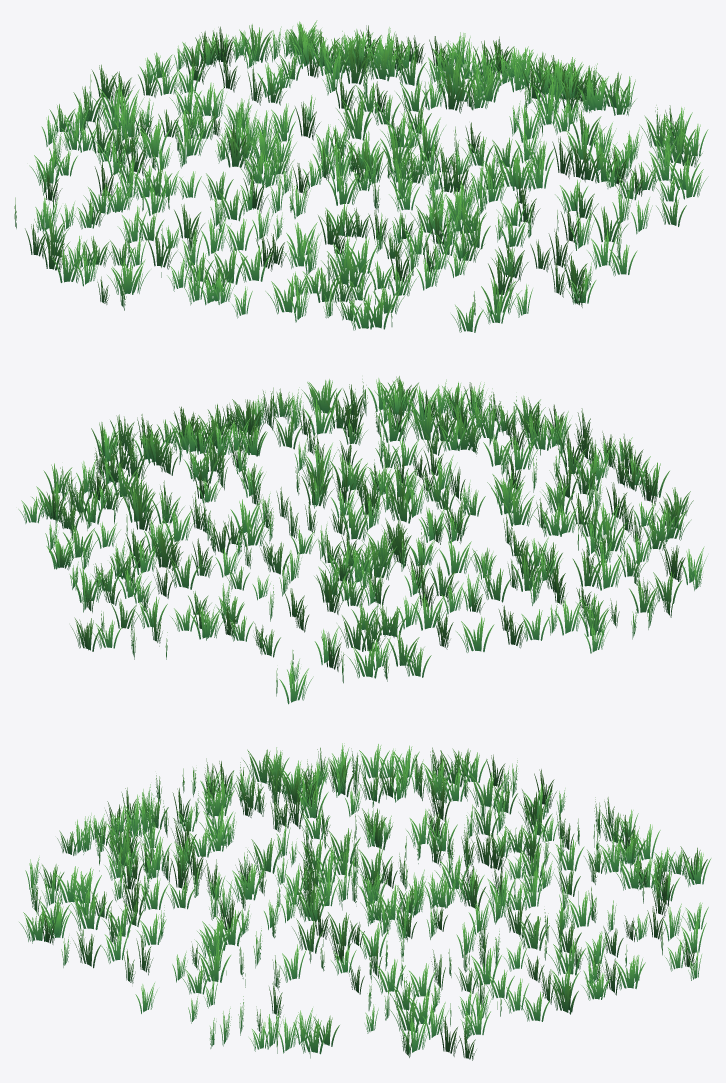
The model's file is sGrass_03(Seperate).fbx.
3 renders of one model, top to bottom at view 1: azimuth 30°, elevation 25°; view 2: azimuth 150°, elevation 25°; view 3: azimuth 270°, elevation 25°, orthographic. The views are drawn at different scales.
Visible parts, largest first — view 1: Grass; view 2: Grass; view 3: Grass.
Part boxes in pixels (x1,y1,x2,y2): Grass: [14, 20, 708, 332]; Grass: [18, 376, 707, 704]; Grass: [19, 743, 711, 1060].
Size of the model in its own units: 2249 by 351 by 2237.
